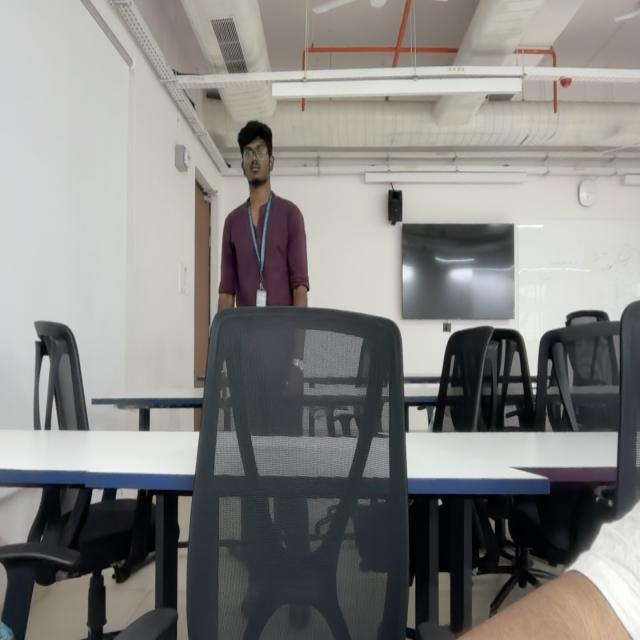ravindra: (237, 123, 276, 188)
